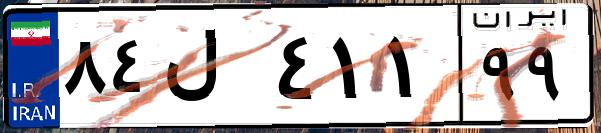1: (385, 28, 445, 110), (330, 28, 385, 110)
4: (270, 28, 330, 110), (110, 28, 158, 98)
8: (57, 26, 110, 100)
9: (475, 38, 525, 113), (525, 38, 570, 115)
ل: (158, 20, 270, 120)
